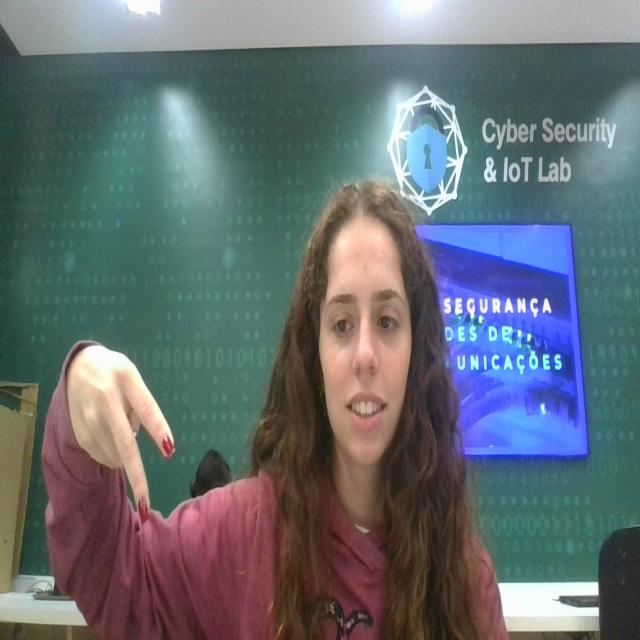P: (60, 334, 191, 526)
